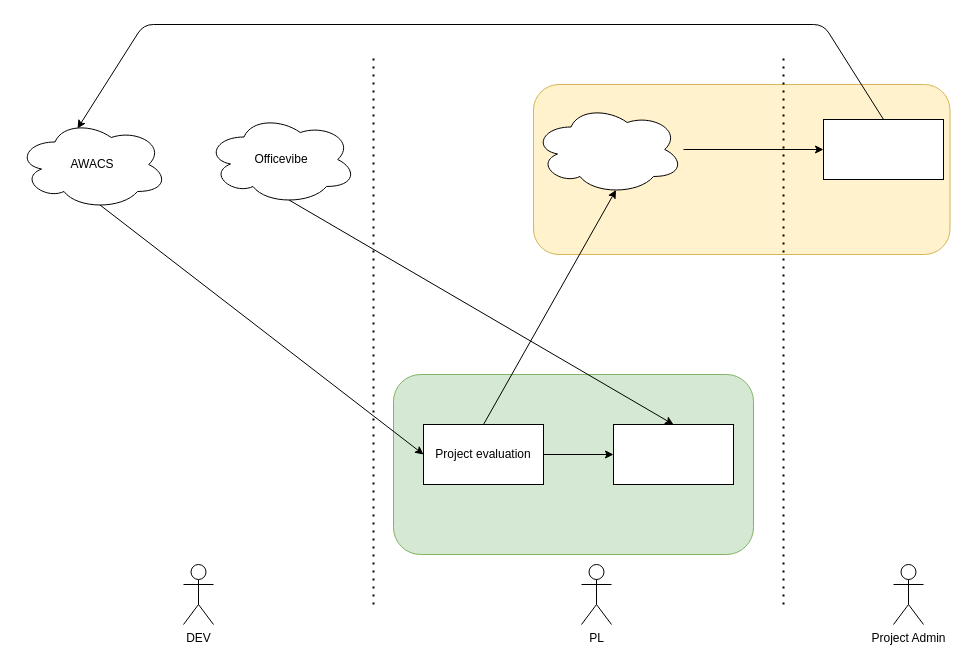
The diagram is 968 pixels wide and 663 high, and some of its shapes have lost their labels. The centre of each missing label's shape, as x and y in pixels:
Invoices: [883,149]
Monthly governance: [673,454]
TRAC/finances: [608,149]
